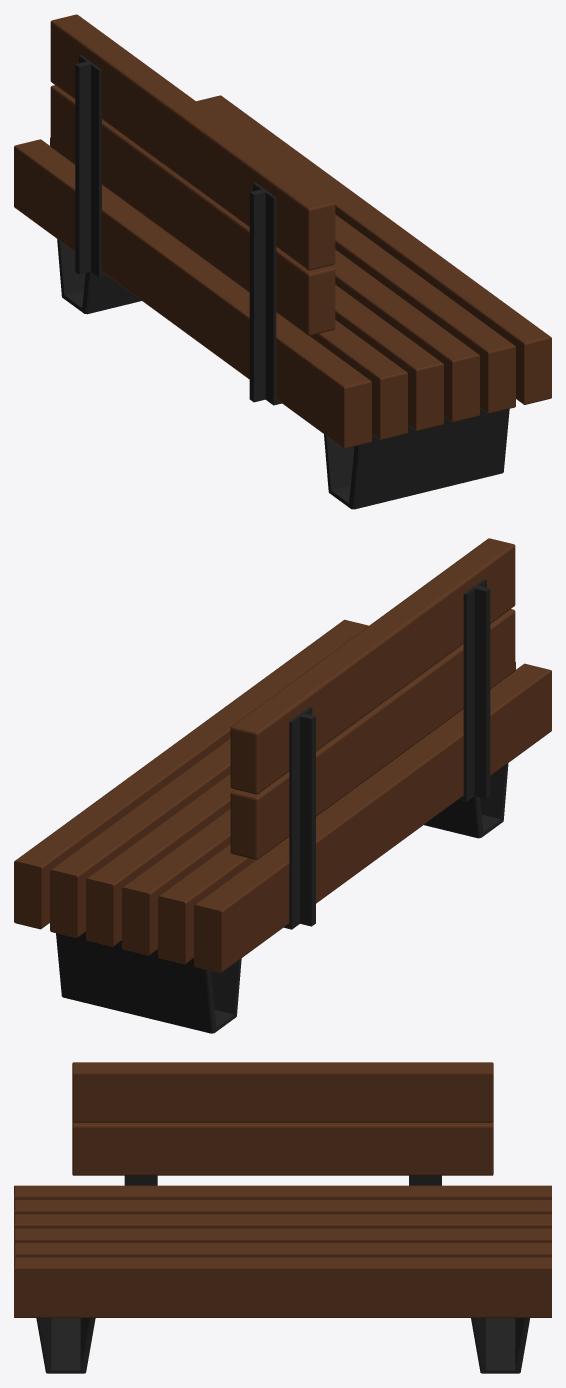
Rendered from bench.fbx.
3 renders of one model, top to bottom at view 1: azimuth 30°, elevation 25°; view 2: azimuth 150°, elevation 25°; view 3: azimuth 270°, elevation 25°, orthographic. The views are drawn at different scales.
Visible parts, largest first — view 1: Bench_Middle, Bench_Back, Bench_Legs, Bench_Support; view 2: Bench_Middle, Bench_Back, Bench_Legs, Bench_Support; view 3: Bench_Middle, Bench_Back, Bench_Legs, Bench_Support.
Part boxes in pixels (bbox=[...]): Bench_Middle: bbox=[14, 95, 551, 448]; Bench_Back: bbox=[50, 14, 335, 335]; Bench_Legs: bbox=[57, 239, 509, 509]; Bench_Support: bbox=[75, 55, 281, 405]; Bench_Middle: bbox=[14, 619, 551, 973]; Bench_Back: bbox=[230, 538, 515, 859]; Bench_Legs: bbox=[56, 763, 508, 1033]; Bench_Support: bbox=[284, 579, 490, 929]; Bench_Middle: bbox=[14, 1185, 551, 1317]; Bench_Back: bbox=[72, 1062, 493, 1175]; Bench_Legs: bbox=[36, 1318, 529, 1373]; Bench_Support: bbox=[124, 1175, 441, 1185].
Size of the model in its own units: 93.96 by 119 by 242.
